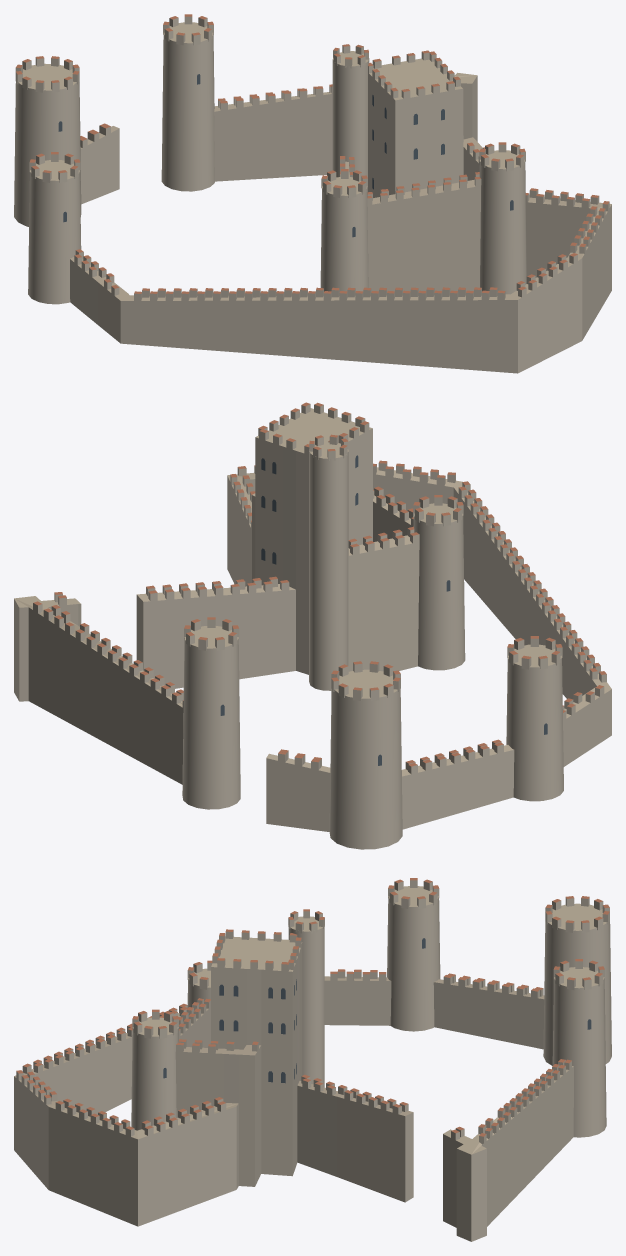
The model's file is istanbul-anadolu-hisari.glb.
The picture shows the model from 3 angles, top to bottom: view 1: azimuth 30°, elevation 25°; view 2: azimuth 150°, elevation 25°; view 3: azimuth 270°, elevation 25°; orthographic projection. The views are drawn at different scales.
Visible parts, largest first — view 1: Anadolu Hisarı; view 2: Anadolu Hisarı; view 3: Anadolu Hisarı.
Boxes of the visible parts, box(x1,y1,x2,y2) form: Anadolu Hisarı: box(14, 14, 611, 373); Anadolu Hisarı: box(14, 402, 611, 849); Anadolu Hisarı: box(14, 878, 611, 1241).
Bounding box in the file's own units: 71.75 × 31.88 × 77.65.
